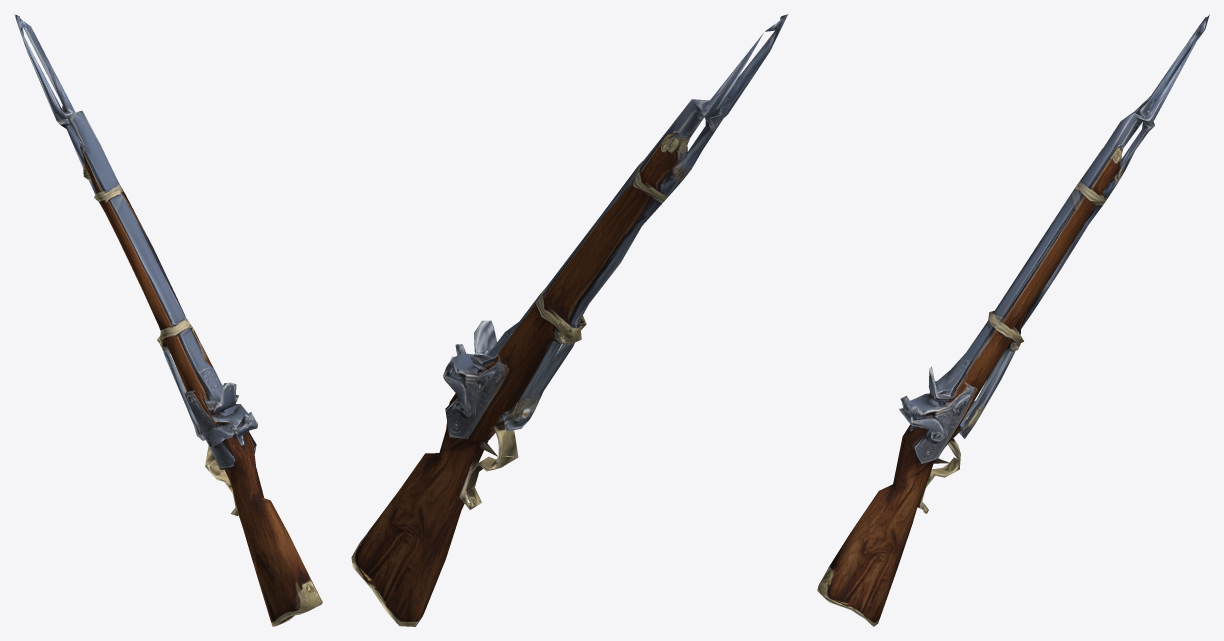
Rendered from infantry_spd_musket.glb.
3 views of the same model, side by side, from view 1: azimuth 30°, elevation 25°; view 2: azimuth 210°, elevation 25°; view 3: azimuth 270°, elevation 25° (orthographic). The views are drawn at different scales.
Parts seen in each view (by area): view 1: tripo_node_57ee8505-333e-4cf2-bbd6-31e5e49c0c9a; view 2: tripo_node_57ee8505-333e-4cf2-bbd6-31e5e49c0c9a; view 3: tripo_node_57ee8505-333e-4cf2-bbd6-31e5e49c0c9a.
Part boxes in pixels (left/top/right/bottom): tripo_node_57ee8505-333e-4cf2-bbd6-31e5e49c0c9a: left=14, top=14, right=322, bottom=626; tripo_node_57ee8505-333e-4cf2-bbd6-31e5e49c0c9a: left=351, top=14, right=788, bottom=626; tripo_node_57ee8505-333e-4cf2-bbd6-31e5e49c0c9a: left=817, top=14, right=1209, bottom=626.
Bounding box in the file's own units: 0.2544 × 0.9831 × 0.6319.
1 material, 1 textured.
